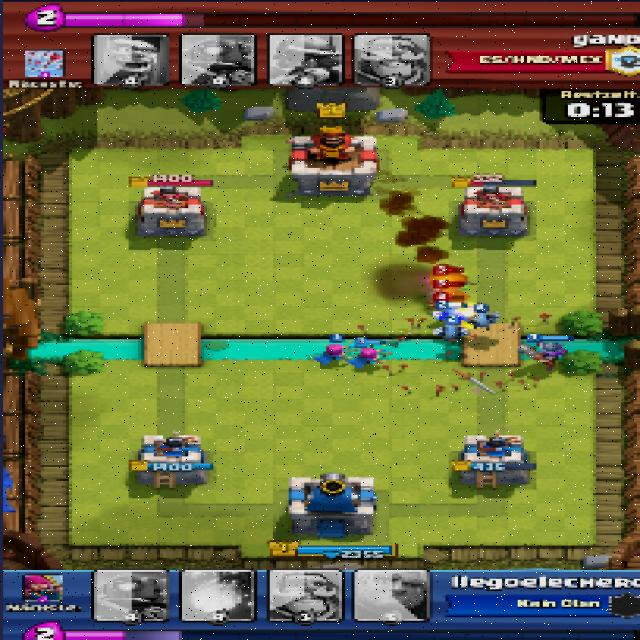Enemy-Fireball: (424, 272, 475, 312)
Player-Archer: (350, 348, 390, 370), (318, 343, 351, 367)
Player-Minion: (435, 320, 474, 341), (466, 308, 498, 330), (434, 304, 471, 320)
Player-Musketeer: (513, 340, 572, 367)
